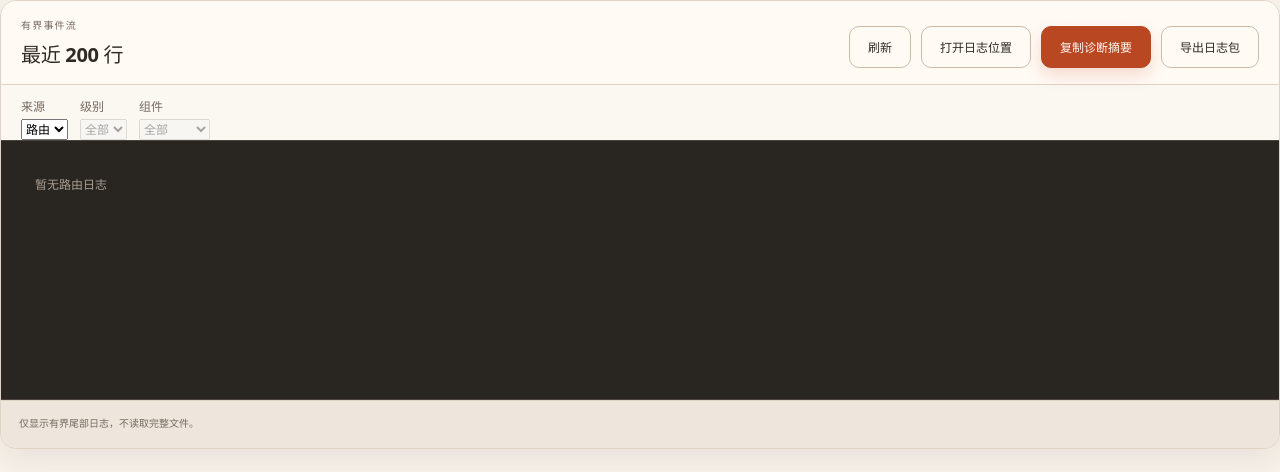
Test: LogsPage › copies only the sanitized diagnostic summary
Expected: the text "暂无路由日志" is shown, [35,178,107,192]
Click the button "复制诊断摘要": (1096, 47) [1041,26,1151,68]
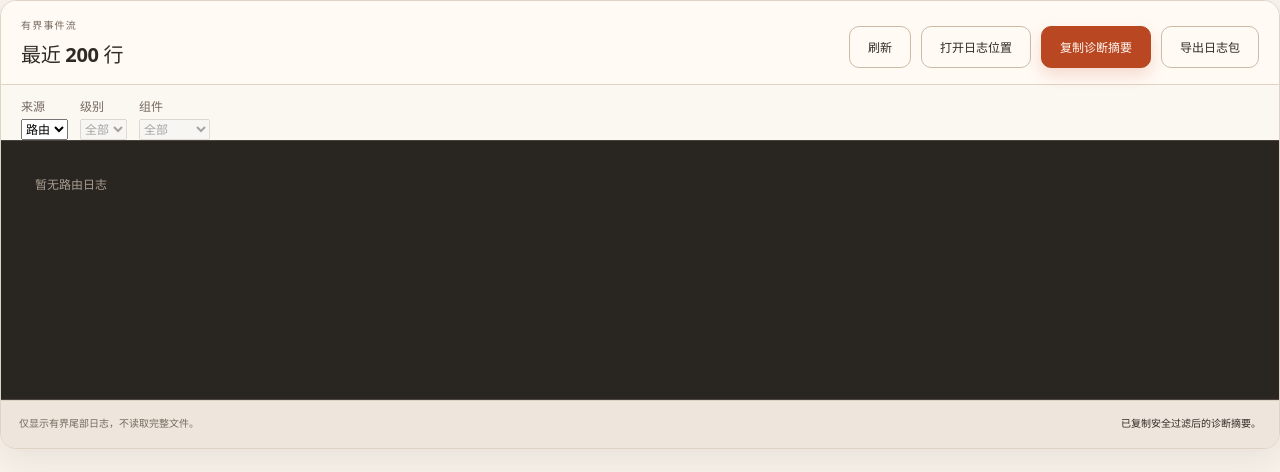
Expected: the text "已复制安全过滤后的诊断摘要。" is shown, [1121,415,1261,434]
